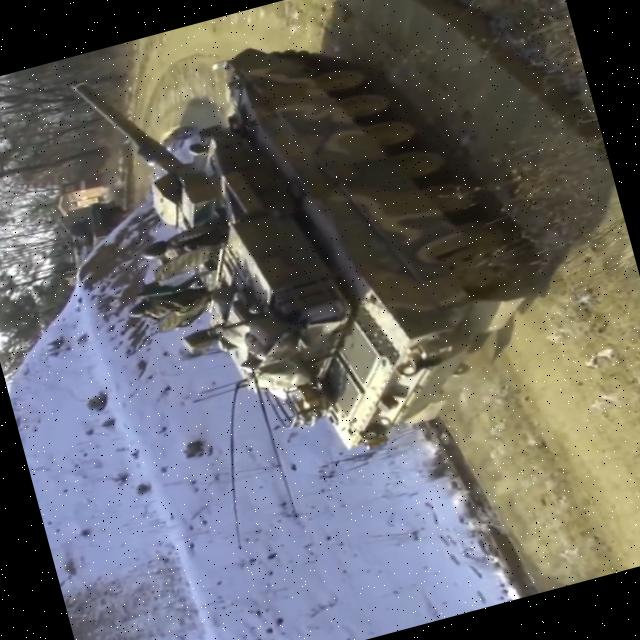korea tank: (63, 0, 583, 501)
